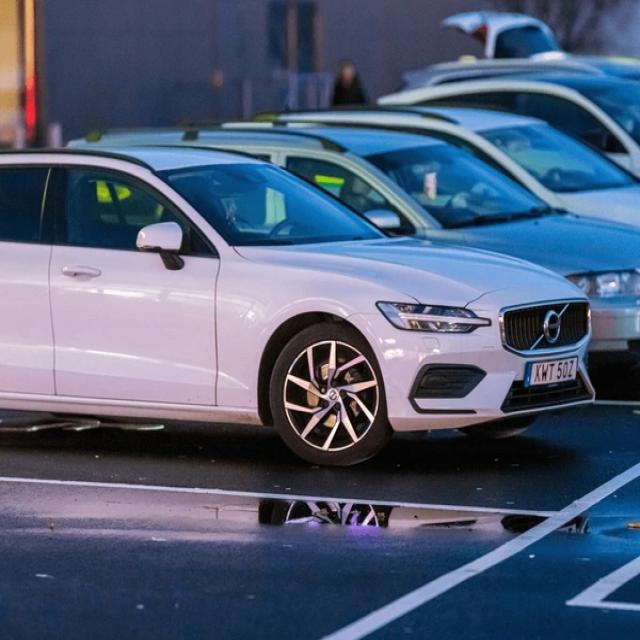volvo: (542, 308, 564, 343)
